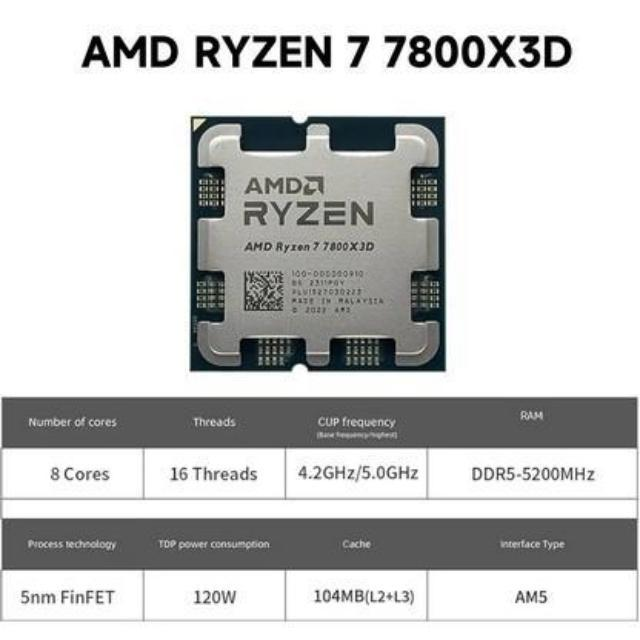CPU: (190, 120, 450, 374)
